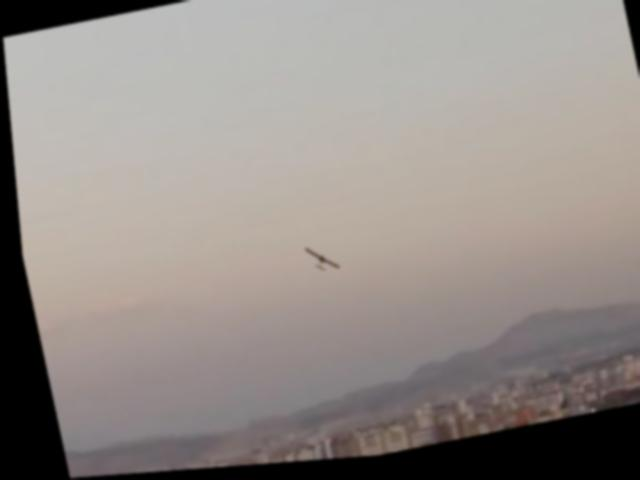uav: (289, 237, 341, 289)
